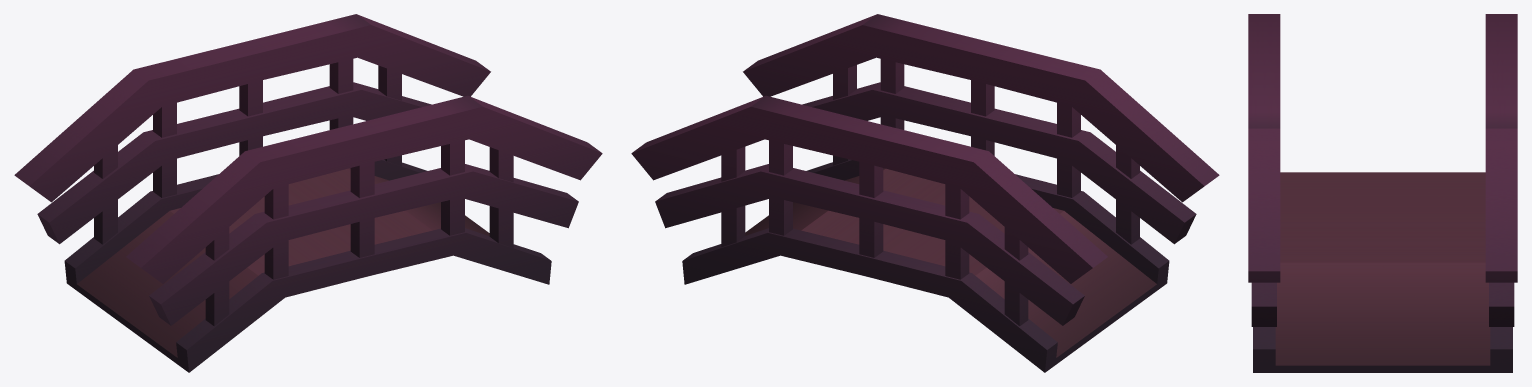
Rendered from Ponte.fbx.
3 views of the same model, side by side, from view 1: azimuth 30°, elevation 25°; view 2: azimuth 150°, elevation 25°; view 3: azimuth 270°, elevation 25° (orthographic). The views are drawn at different scales.
Visible parts, largest first — view 1: pCube22; view 2: pCube22; view 3: pCube22.
Boxes of the visible parts, left/top/right/bottom form: pCube22: left=14, top=14, right=602, bottom=372; pCube22: left=631, top=14, right=1219, bottom=372; pCube22: left=1248, top=14, right=1517, bottom=372.
Bounding box in the file's own units: 10.77 × 4.38 × 5.12.
